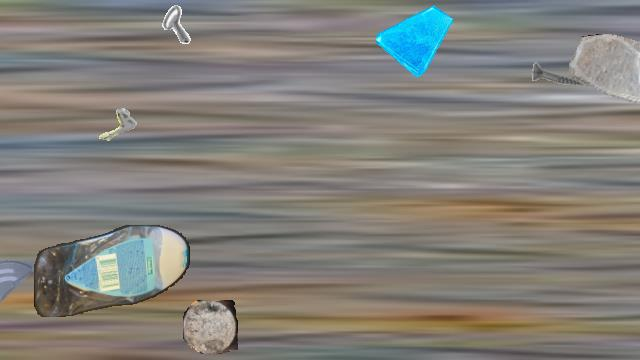glass: (376, 1, 452, 77), (569, 34, 640, 108), (0, 245, 36, 307)
metal: (130, 1, 192, 63), (530, 43, 592, 105), (81, 99, 141, 159)
plastic: (34, 225, 190, 317)
wood: (183, 300, 237, 354)
